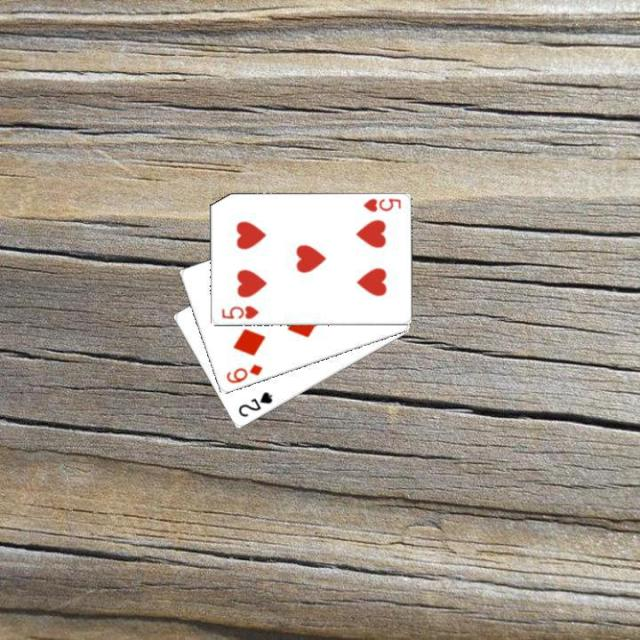2S: (234, 388, 274, 420)
5H: (359, 195, 403, 214), (217, 302, 260, 321)
6D: (222, 360, 264, 386)
